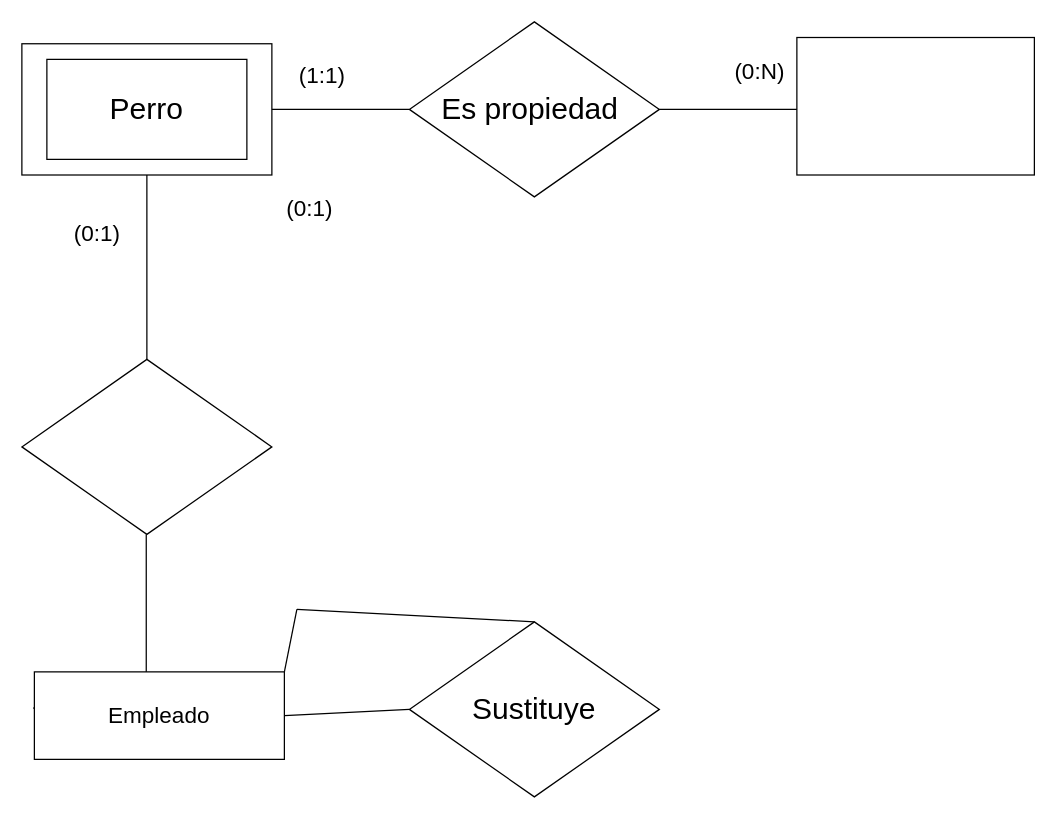
This 1056x819 diagram has some shape labels left out. Each missing label, with the centre of its shape:
"Cliente" goes at [915,105].
"Lavado por" goes at [146,446].
